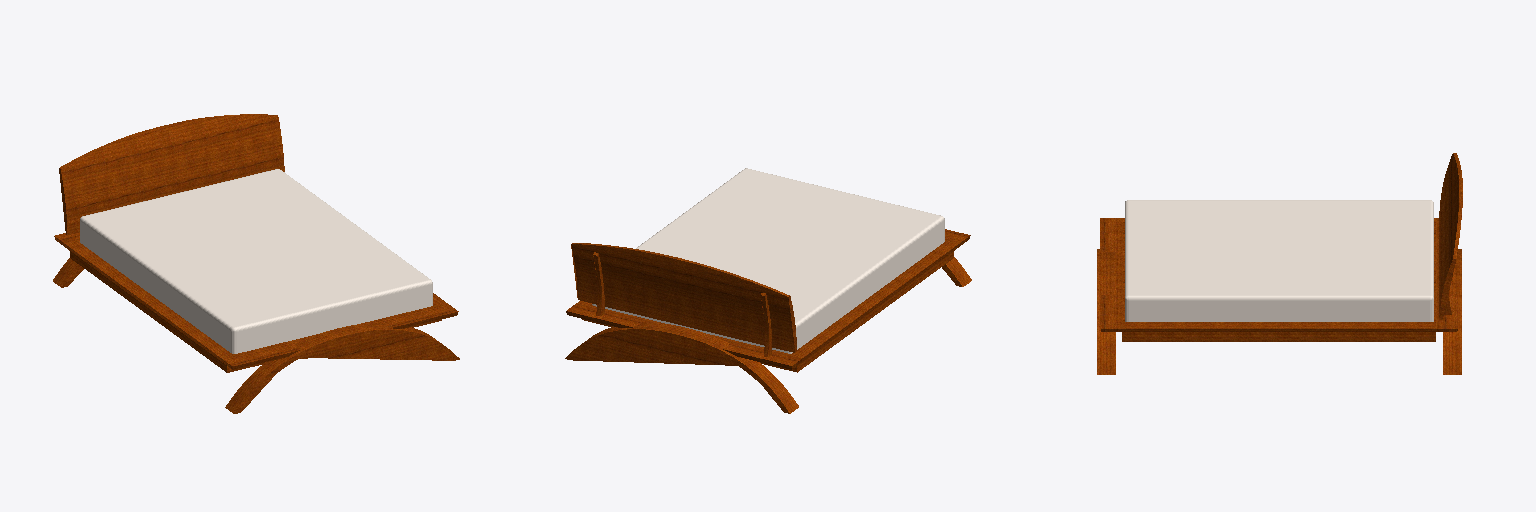
3 views of the same model, side by side, from view 1: azimuth 30°, elevation 25°; view 2: azimuth 150°, elevation 25°; view 3: azimuth 270°, elevation 25° (orthographic).
Parts seen in each view (by area): view 1: Mesh7 Component_8_1 VBQ1 Model, Mesh4 Component_6_1 VBQ1 Model, Mesh3 Component_5_1 VBQ1 Model, Mesh2 Component_4_2 VBQ1 Model; view 2: Mesh7 Component_8_1 VBQ1 Model, Mesh4 Component_6_1 VBQ1 Model, Mesh1 Component_4_1 VBQ1 Model, Mesh3 Component_5_1 VBQ1 Model; view 3: Mesh7 Component_8_1 VBQ1 Model, Mesh3 Component_5_1 VBQ1 Model, Mesh4 Component_6_1 VBQ1 Model, Mesh2 Component_4_2 VBQ1 Model, Mesh1 Component_4_1 VBQ1 Model.
Part boxes in pixels (left/top/right/bottom): Mesh7 Component_8_1 VBQ1 Model: left=80, top=169, right=432, bottom=353; Mesh4 Component_6_1 VBQ1 Model: left=59, top=114, right=284, bottom=234; Mesh3 Component_5_1 VBQ1 Model: left=54, top=232, right=458, bottom=372; Mesh2 Component_4_2 VBQ1 Model: left=225, top=323, right=459, bottom=413; Mesh7 Component_8_1 VBQ1 Model: left=592, top=168, right=944, bottom=353; Mesh4 Component_6_1 VBQ1 Model: left=571, top=243, right=796, bottom=352; Mesh1 Component_4_1 VBQ1 Model: left=565, top=322, right=798, bottom=413; Mesh3 Component_5_1 VBQ1 Model: left=566, top=229, right=970, bottom=372; Mesh7 Component_8_1 VBQ1 Model: left=1125, top=200, right=1433, bottom=321; Mesh3 Component_5_1 VBQ1 Model: left=1100, top=218, right=1457, bottom=341; Mesh4 Component_6_1 VBQ1 Model: left=1439, top=153, right=1462, bottom=319; Mesh2 Component_4_2 VBQ1 Model: left=1097, top=249, right=1115, bottom=374; Mesh1 Component_4_1 VBQ1 Model: left=1443, top=249, right=1461, bottom=374.
Bounding box in the file's own units: 67.5 × 36.49 × 94.6.
Materials: 3 (1 with a texture image).